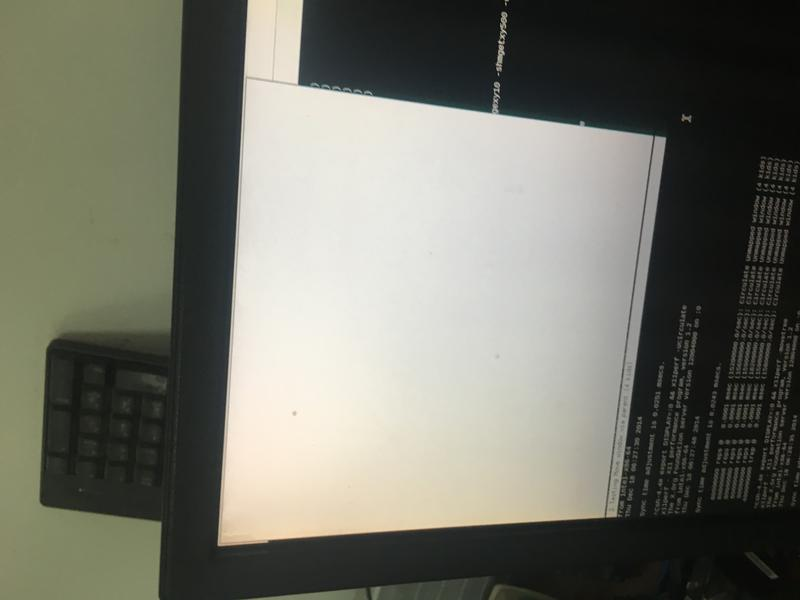xrandr_pass: (181, 63, 672, 552)
